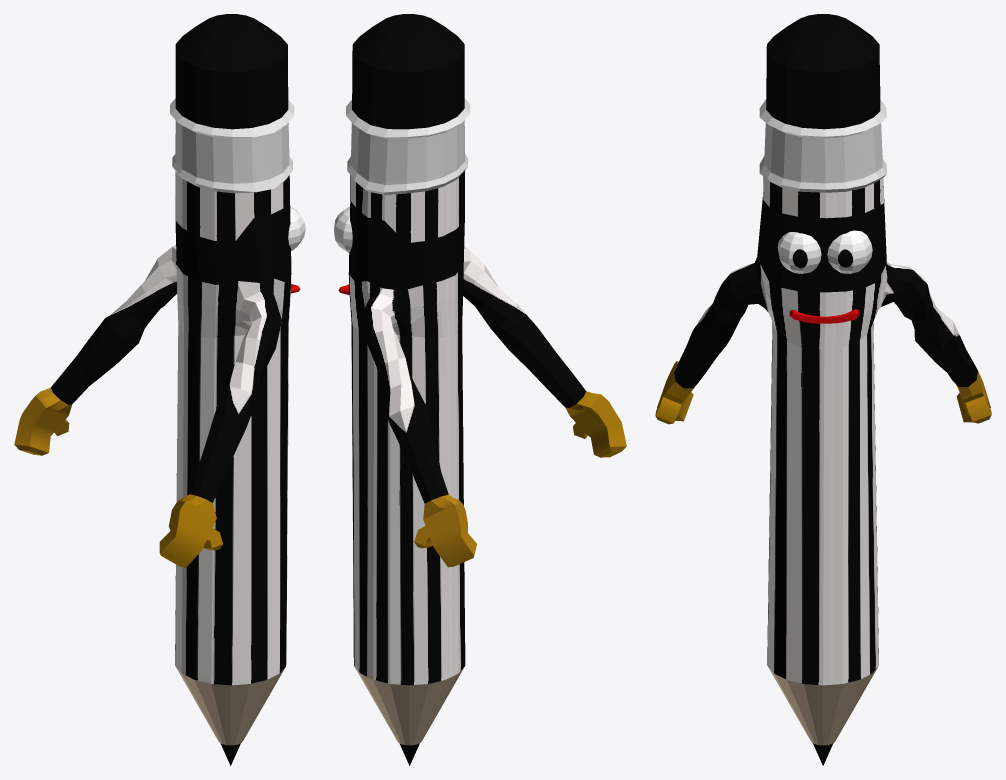
File: pencil13.fbx
3 renders of one model, left to right at view 1: azimuth 30°, elevation 25°; view 2: azimuth 150°, elevation 25°; view 3: azimuth 270°, elevation 25°, orthographic.
Parts seen in each view (by area): view 1: final; view 2: final; view 3: final.
Part boxes in pixels (x1,y1,x2,y2): final: (14,14,305,765); final: (334,14,626,765); final: (655,14,991,765).
Size of the model in its own units: 4.26 by 14.74 by 6.04.
Materials: 10 (2 with a texture image).
